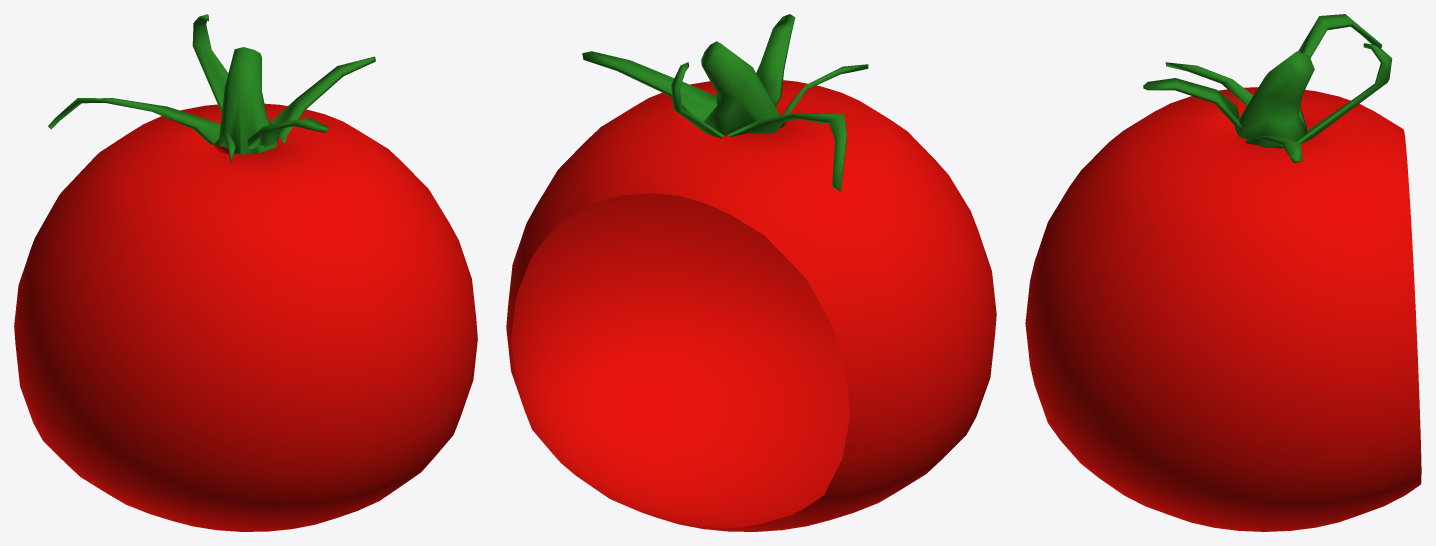
The model's file is Tomatocut1.fbx.
The picture shows the model from 3 angles, left to right: view 1: azimuth 30°, elevation 25°; view 2: azimuth 150°, elevation 25°; view 3: azimuth 270°, elevation 25°; orthographic projection. The views are drawn at different scales.
Visible parts, largest first — view 1: Tomato; view 2: Tomato; view 3: Tomato.
Part boxes in pixels (x1,y1,x2,y2): Tomato: [14, 14, 477, 531]; Tomato: [506, 14, 996, 531]; Tomato: [1025, 14, 1421, 531].
Bounding box in the file's own units: 529 × 565 × 438.
